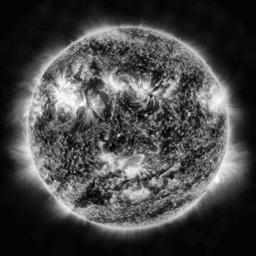solar flares: (47, 82, 82, 111), (101, 154, 140, 174), (103, 72, 124, 98), (204, 88, 223, 116), (122, 184, 151, 202), (133, 82, 150, 103), (156, 84, 174, 100)
sunspots: (124, 56, 159, 78), (107, 132, 140, 151), (79, 184, 107, 206), (89, 41, 125, 57), (184, 72, 197, 100), (65, 125, 79, 146), (165, 128, 177, 150)
